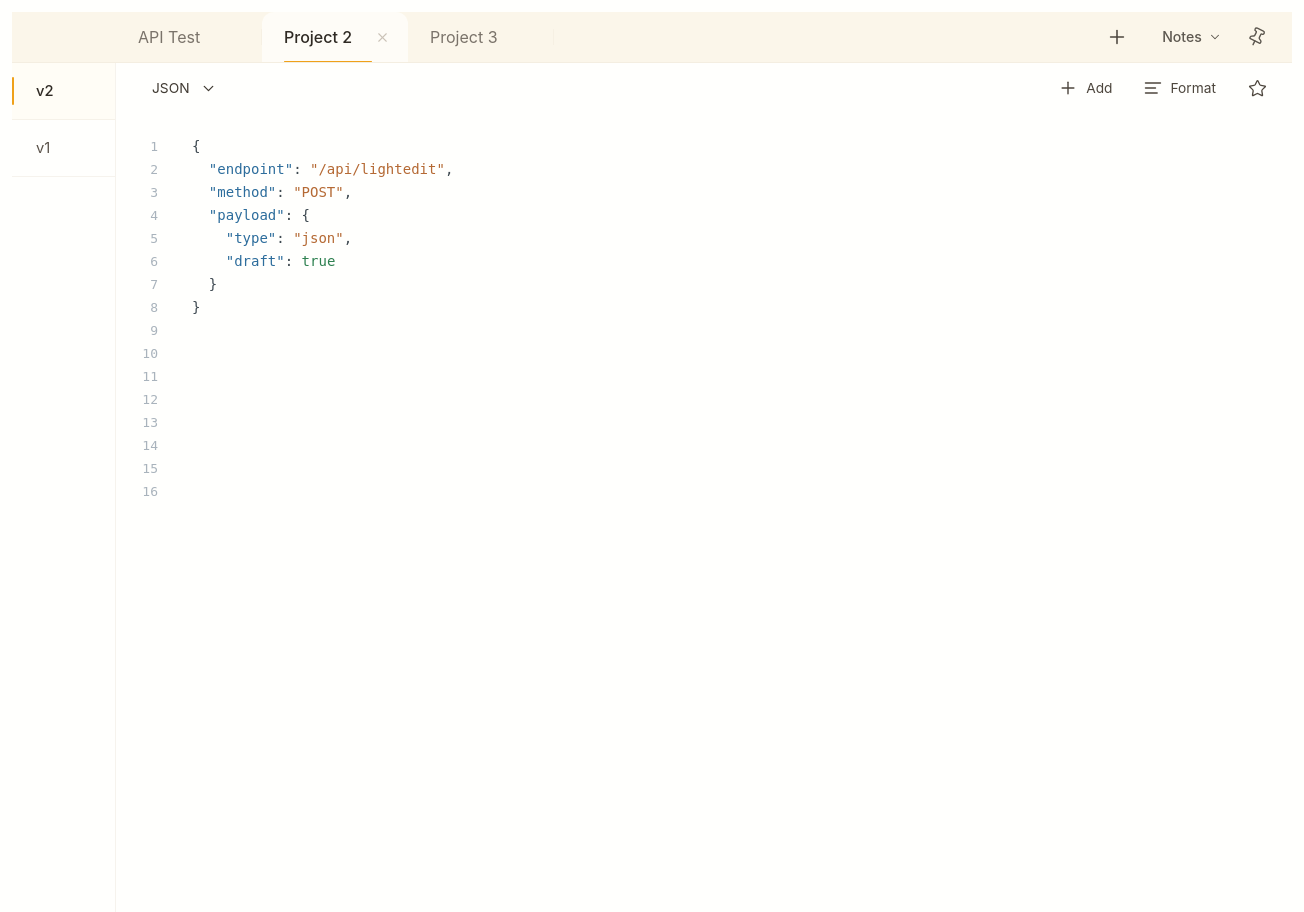
Test: LightEdit quality baseline › keeps custom context menus for project tabs and versions
Right-click the button "Project 2" at (316, 37), box [262,12,370,62]
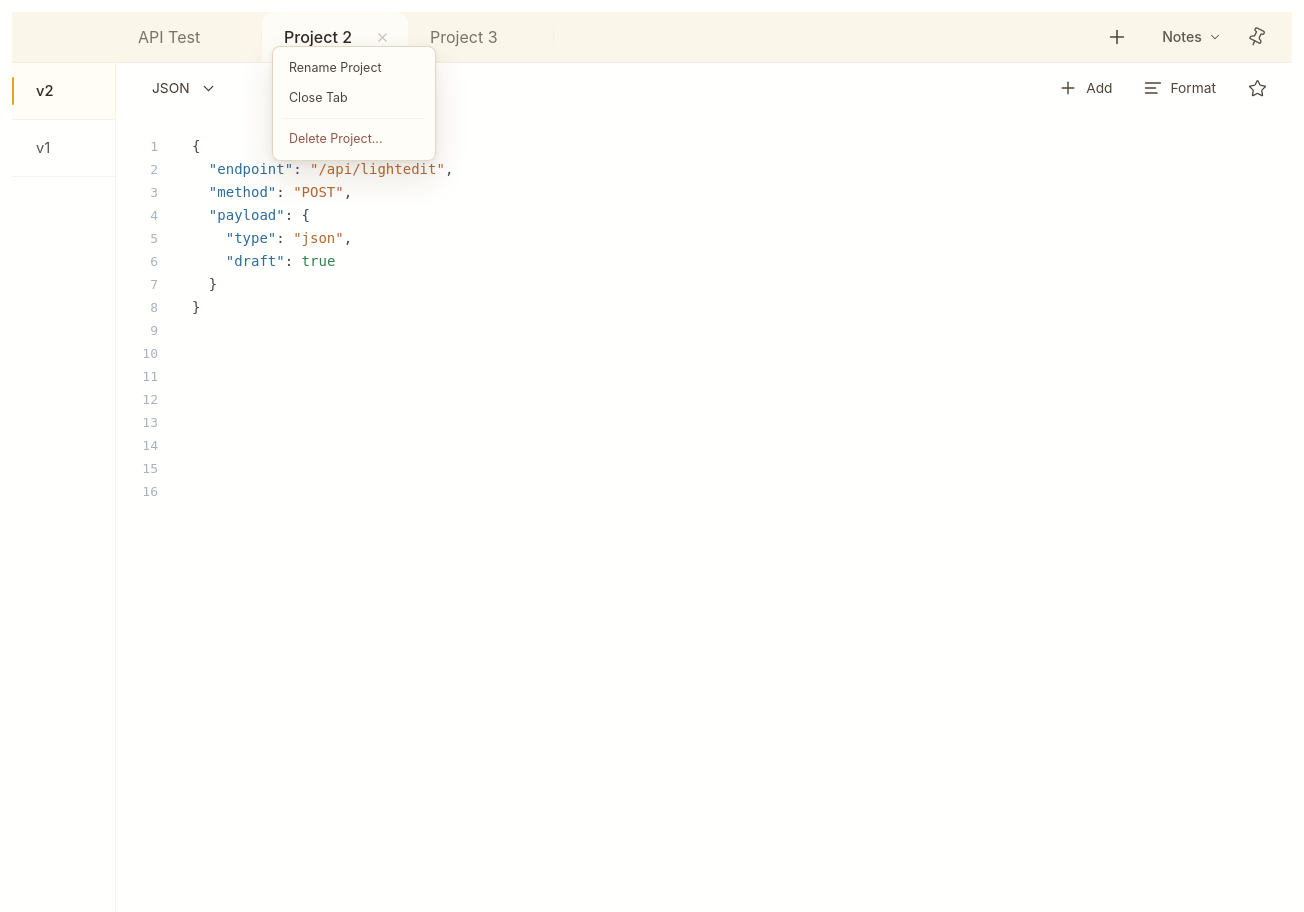
Now the menu item "Rename Project" is shown, box [279,53,429,83]
Now the menu item "Close Tab" is shown, box [279,83,429,113]
Now the menu item "Delete Project..." is shown, box [279,124,429,154]
Press the mouse on the element that starts with "API Test" at (652, 462), box [12,12,1292,911]
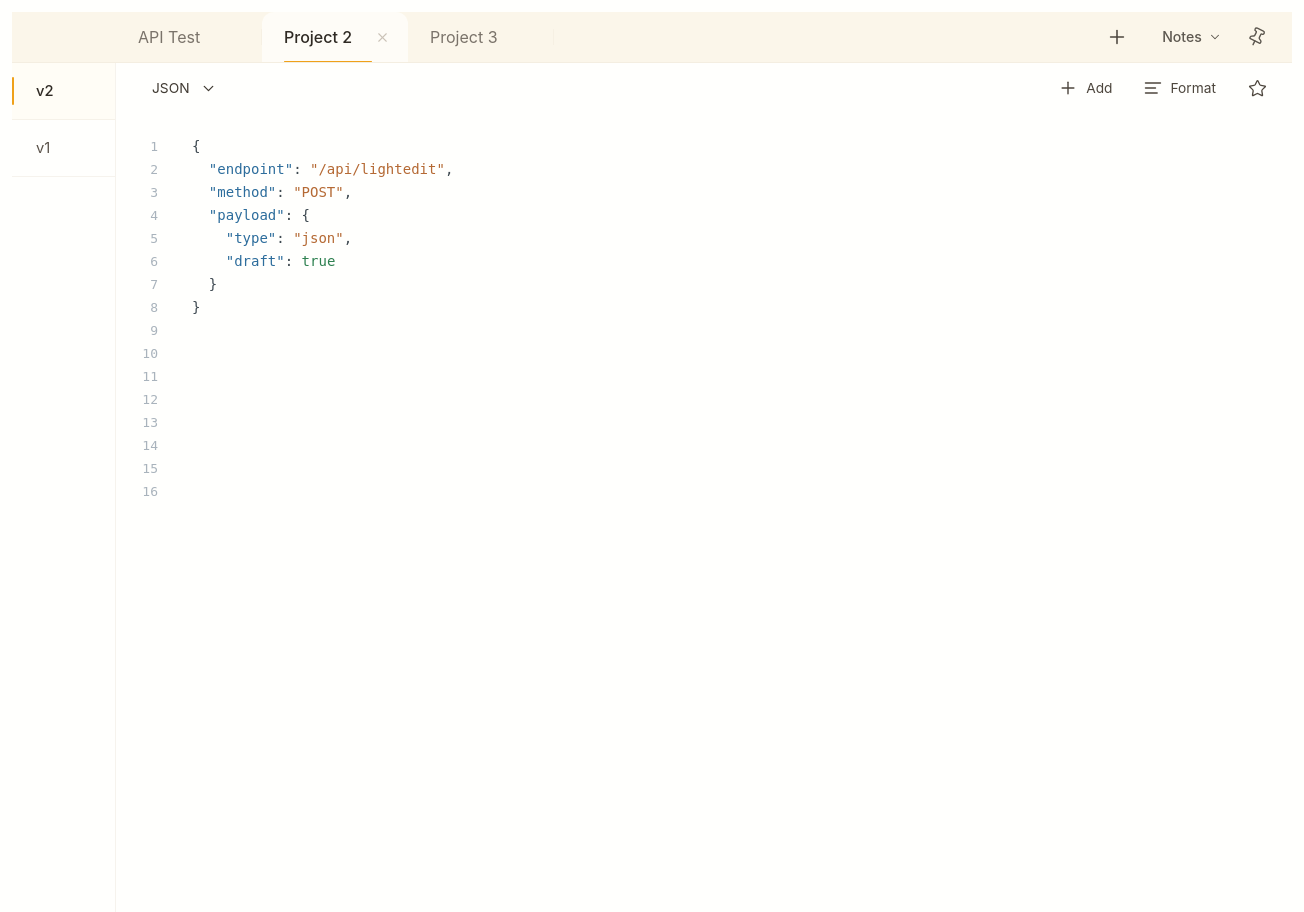
Right-click the button "v1" at (64, 148), box [12,120,115,176]
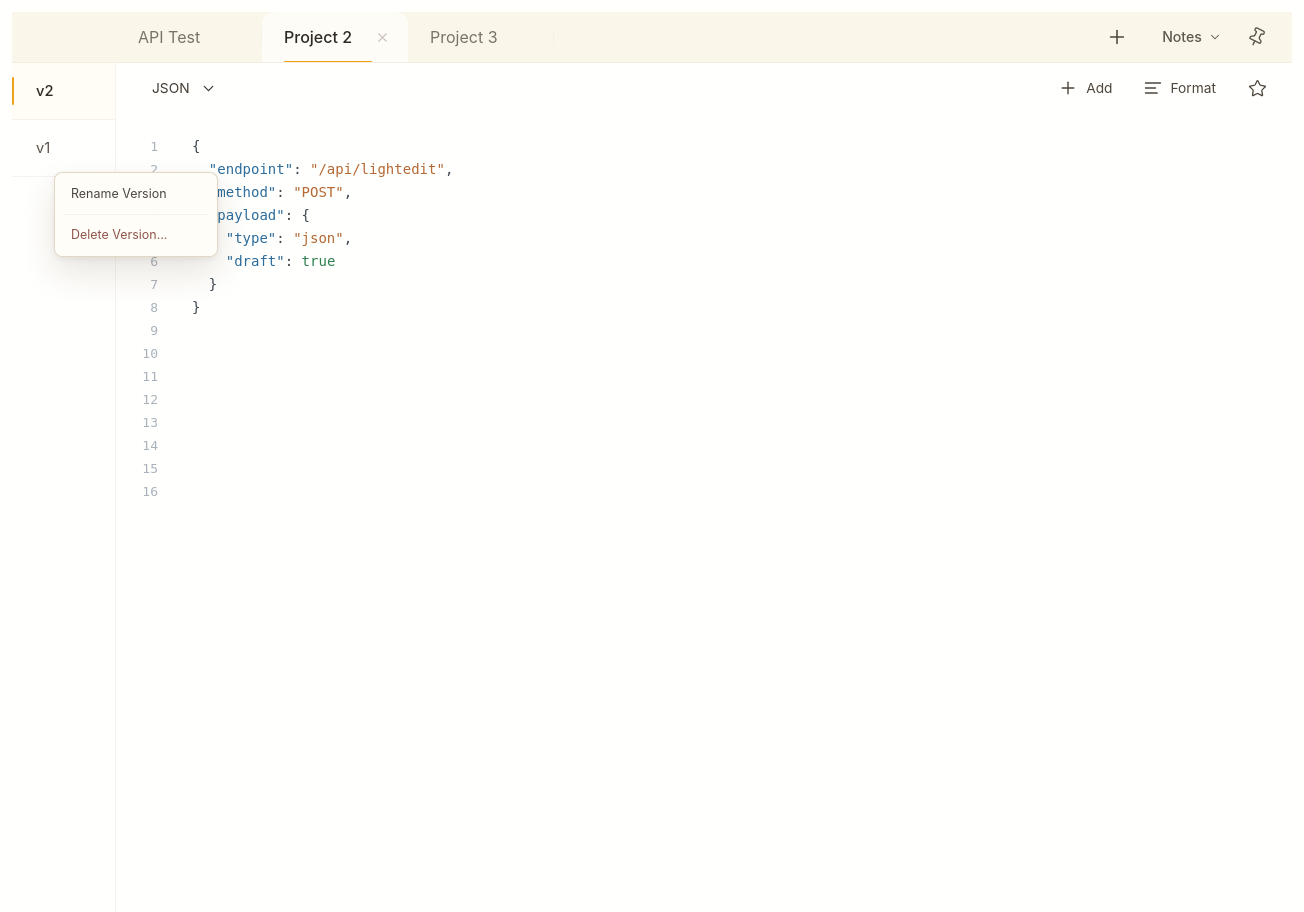
Now the menu item "Rename Version" is shown, box [61,179,211,209]
Now the menu item "Delete Version..." is shown, box [61,220,211,250]
